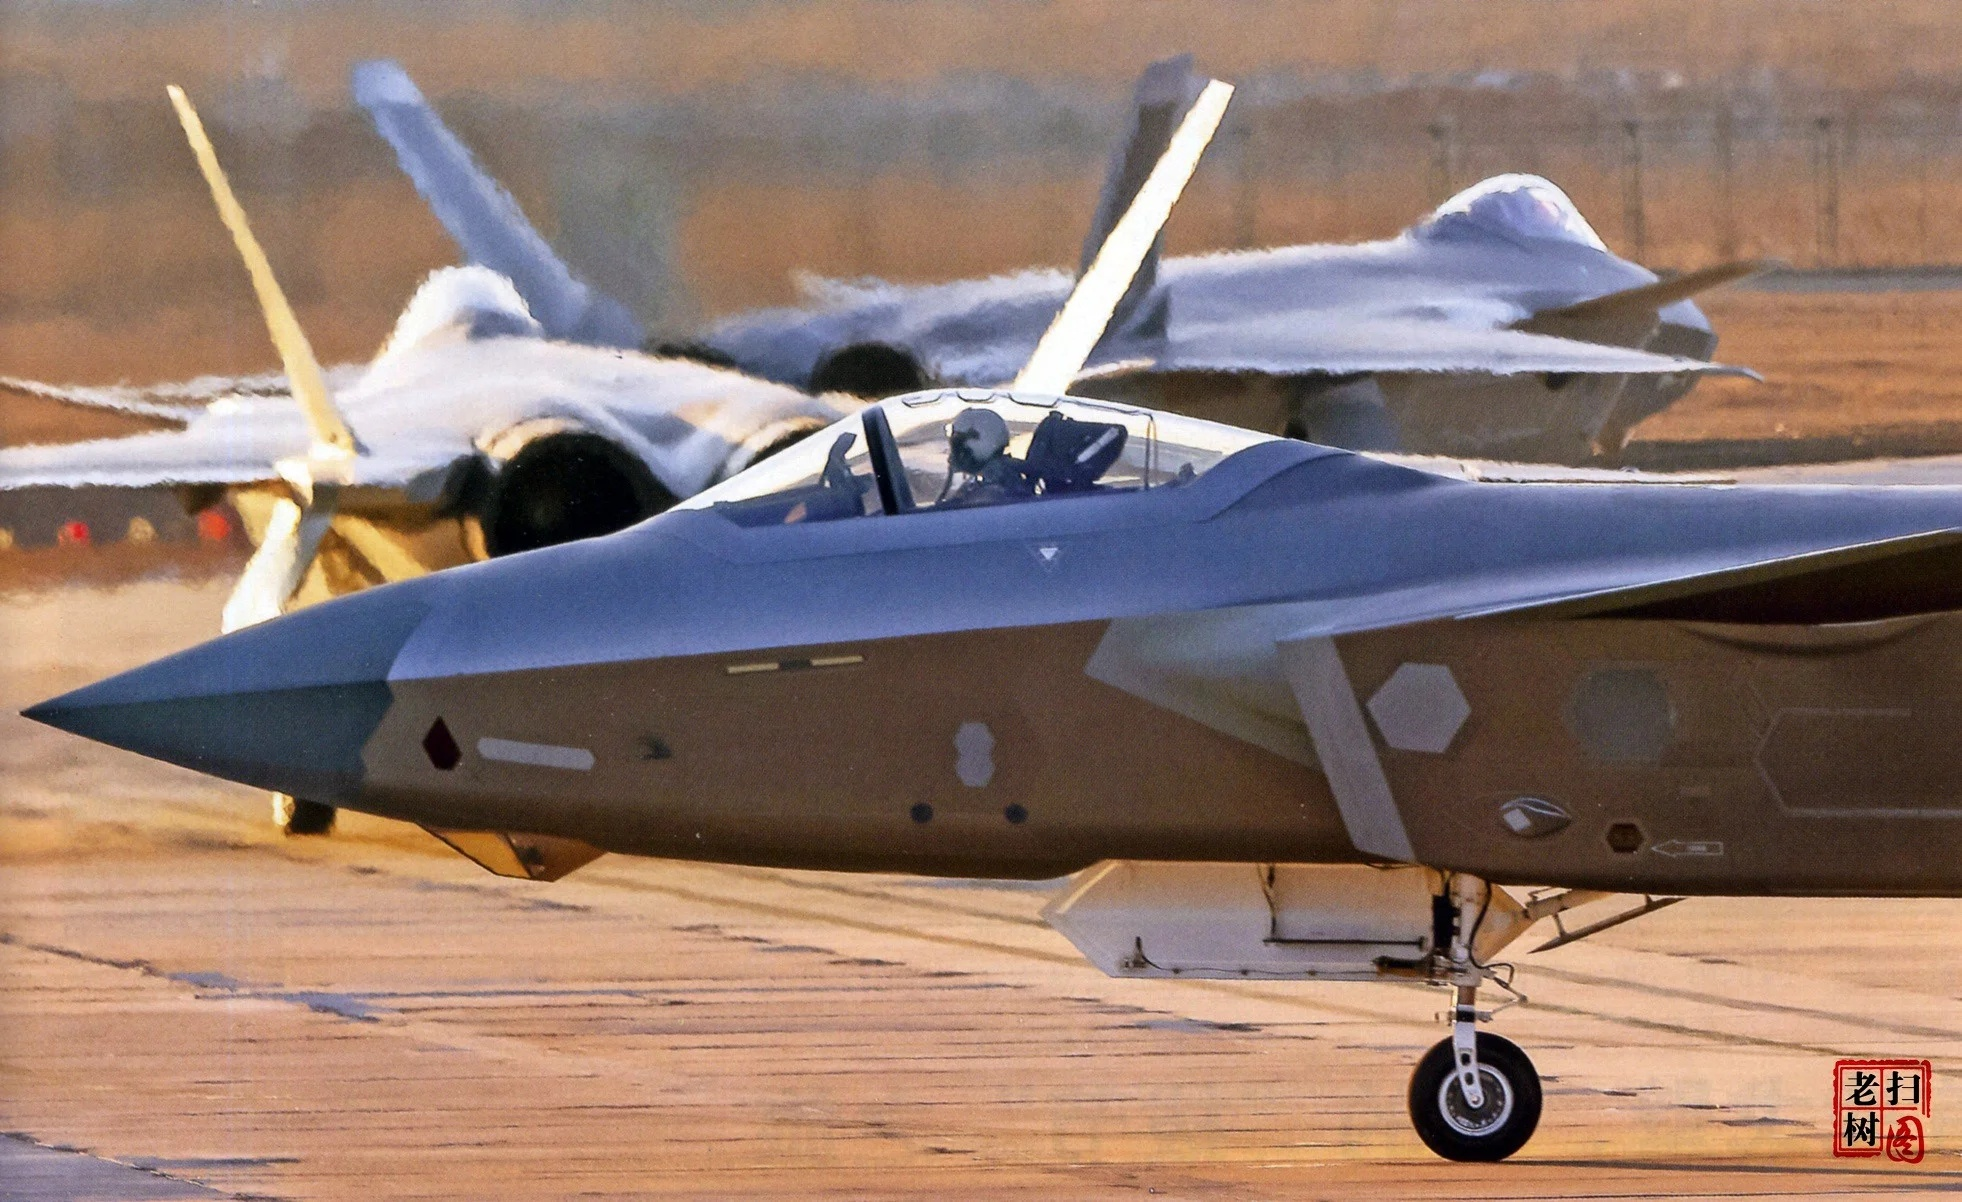J20: (14, 387, 1962, 1161), (1, 76, 1739, 838), (60, 49, 1788, 468)
